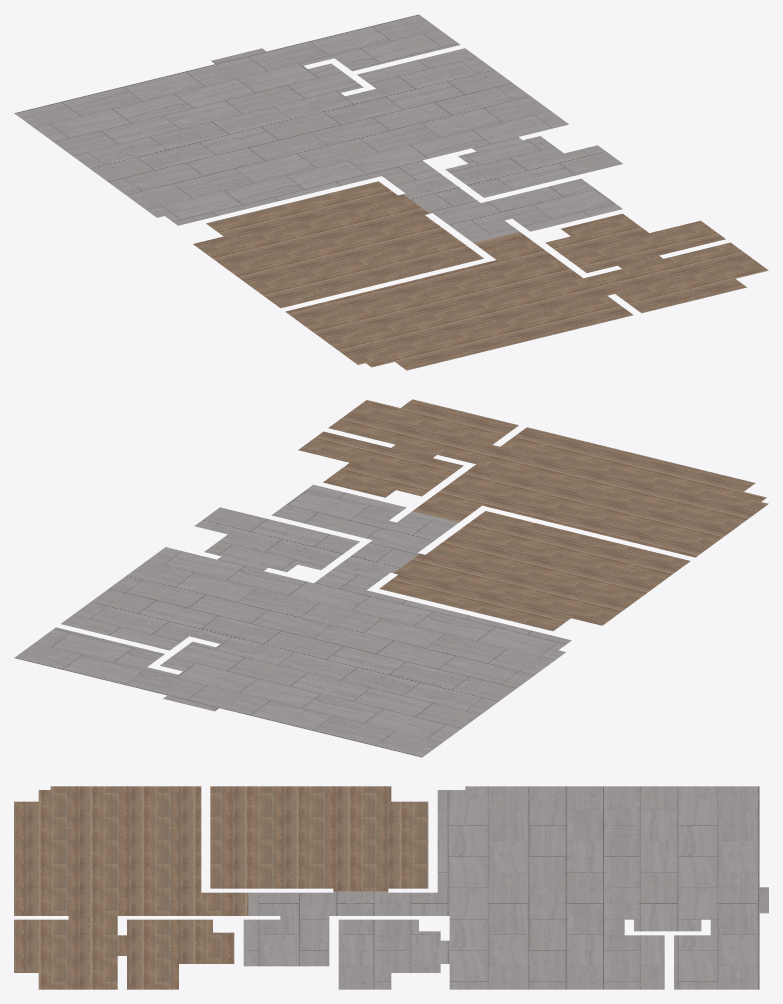
The model's file is SM_piso.fbx.
3 renders of one model, top to bottom at view 1: azimuth 30°, elevation 25°; view 2: azimuth 150°, elevation 25°; view 3: azimuth 270°, elevation 25°, orthographic. The views are drawn at different scales.
Parts seen in each view (by area): view 1: SM_piso; view 2: SM_piso; view 3: SM_piso.
Boxes of the visible parts, x1,y1,x2,y2 form: SM_piso: (14, 14, 768, 370); SM_piso: (14, 399, 768, 757); SM_piso: (14, 786, 768, 989).
Size of the model in its own units: 7.85 by 7.53e-16 by 12.3.
2 materials, 2 textured.
